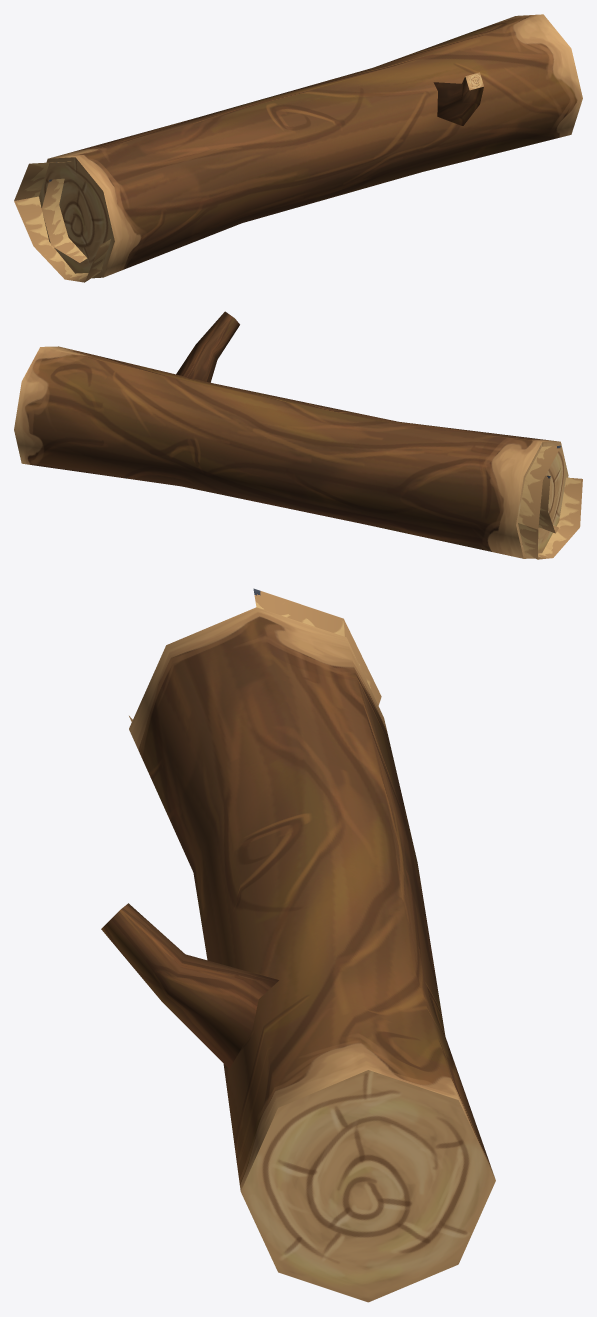
File: strump_01.fbx
3 views of the same model, one above another, from view 1: azimuth 30°, elevation 25°; view 2: azimuth 150°, elevation 25°; view 3: azimuth 270°, elevation 25° (orthographic). The views are drawn at different scales.
Parts seen in each view (by area): view 1: strump_01:Mesh; view 2: strump_01:Mesh; view 3: strump_01:Mesh.
Boxes of the visible parts, <box> form: strump_01:Mesh: <box>14,14,582,282</box>; strump_01:Mesh: <box>14,311,582,559</box>; strump_01:Mesh: <box>101,588,495,1302</box>.
Bounding box in the file's own units: 7 × 1.8 × 2.36.
